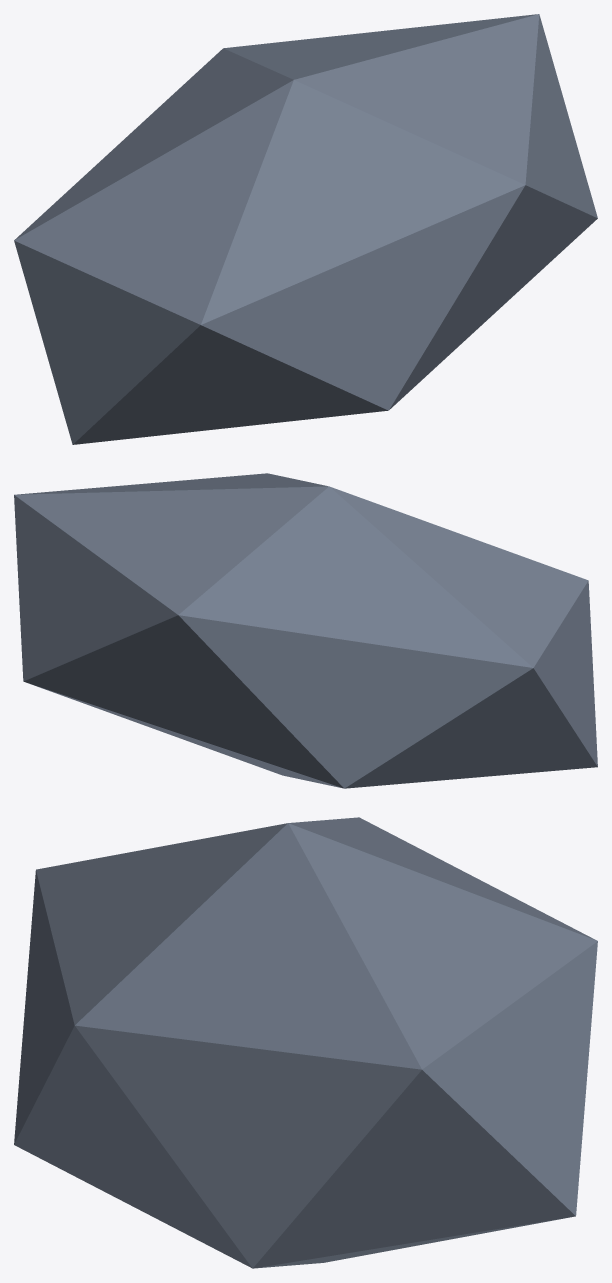
File: EXT_SideScarp_East_00.glb
3 renders of one model, top to bottom at view 1: azimuth 30°, elevation 25°; view 2: azimuth 150°, elevation 25°; view 3: azimuth 270°, elevation 25°, orthographic. The views are drawn at different scales.
Parts seen in each view (by area): view 1: EXT_SideScarp_East_00; view 2: EXT_SideScarp_East_00; view 3: EXT_SideScarp_East_00.
Part boxes in pixels (<box>): EXT_SideScarp_East_00: <box>14,14,597,444</box>; EXT_SideScarp_East_00: <box>14,473,597,788</box>; EXT_SideScarp_East_00: <box>14,817,597,1268</box>.
Size of the model in its own units: 4.05 by 2.22 by 2.82.
